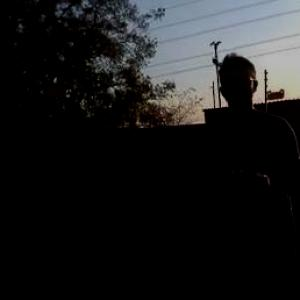follow: (201, 48, 300, 299)
